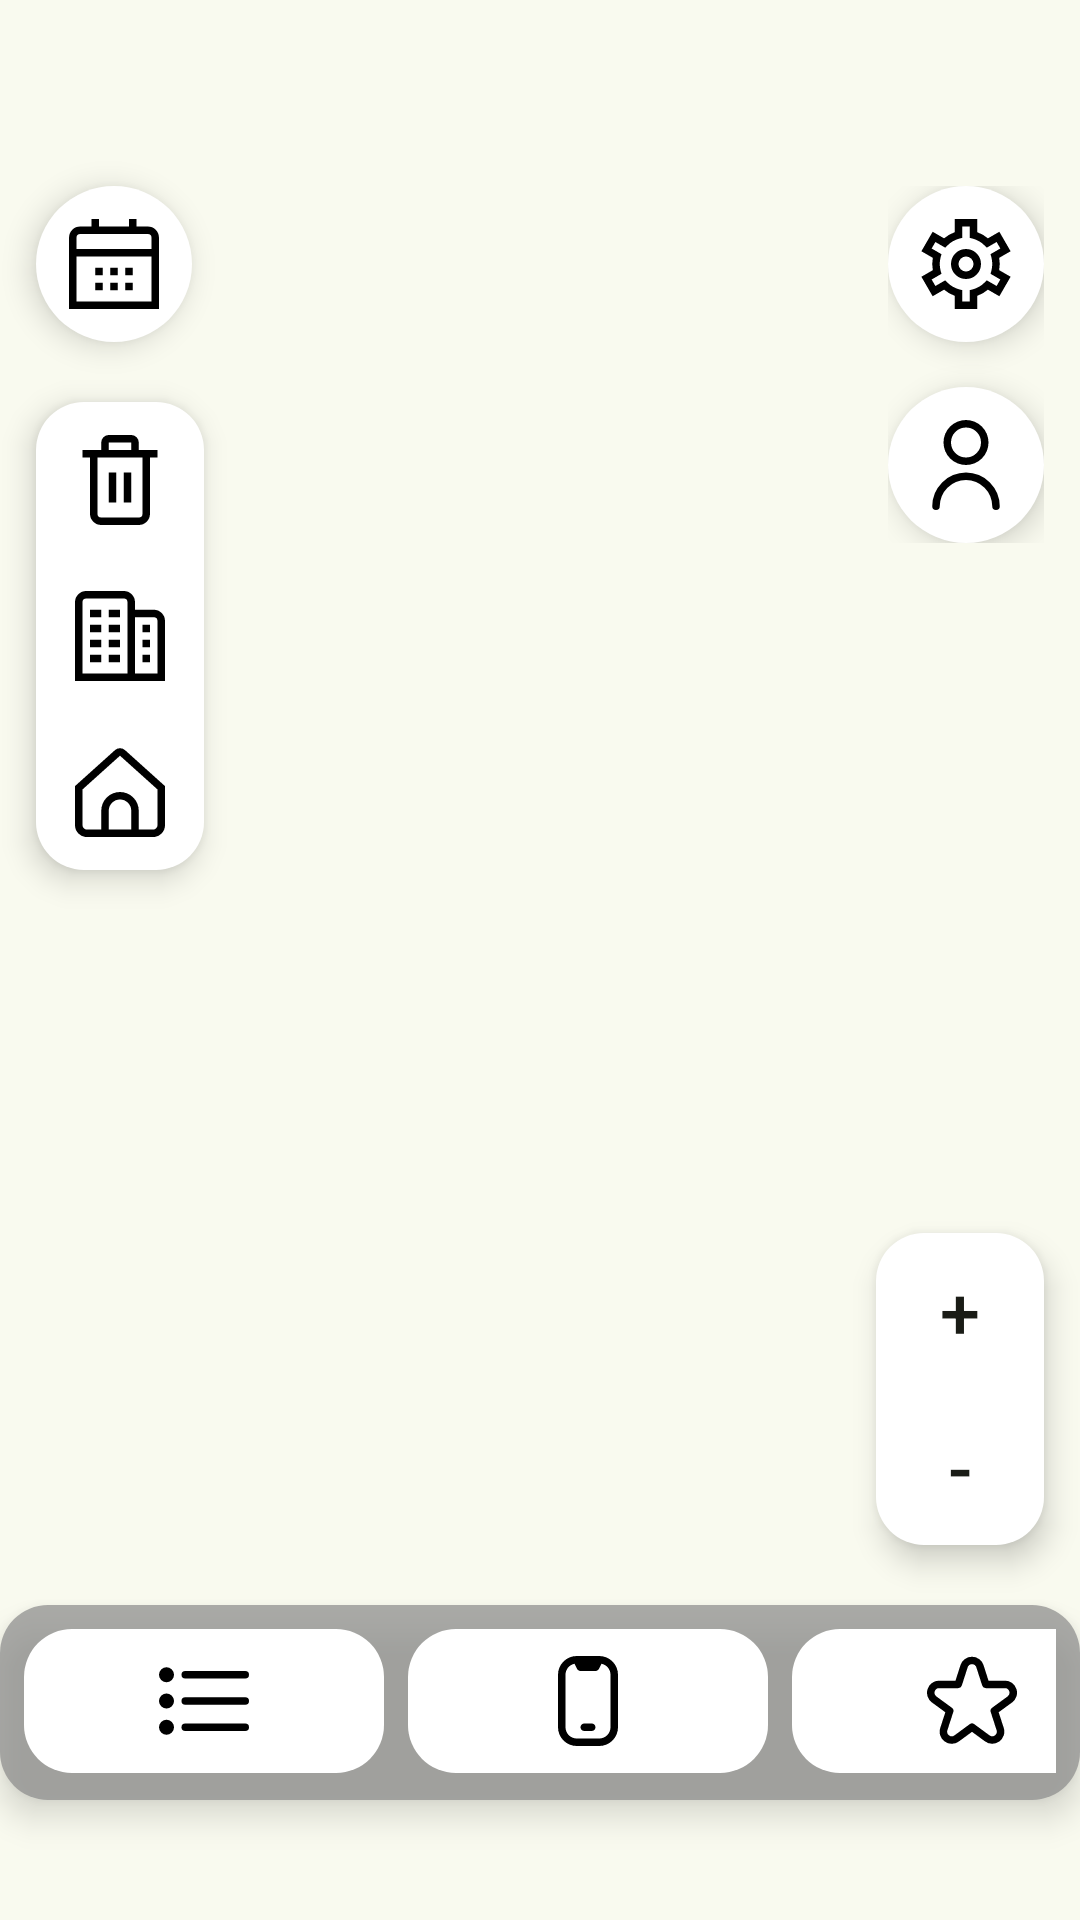

Named icons in this screenshot (1080×1920) and their bounding boxes, (x1, y1, x2, y2):
Settings: (888, 186, 1044, 342)
User: (888, 387, 1044, 543)
